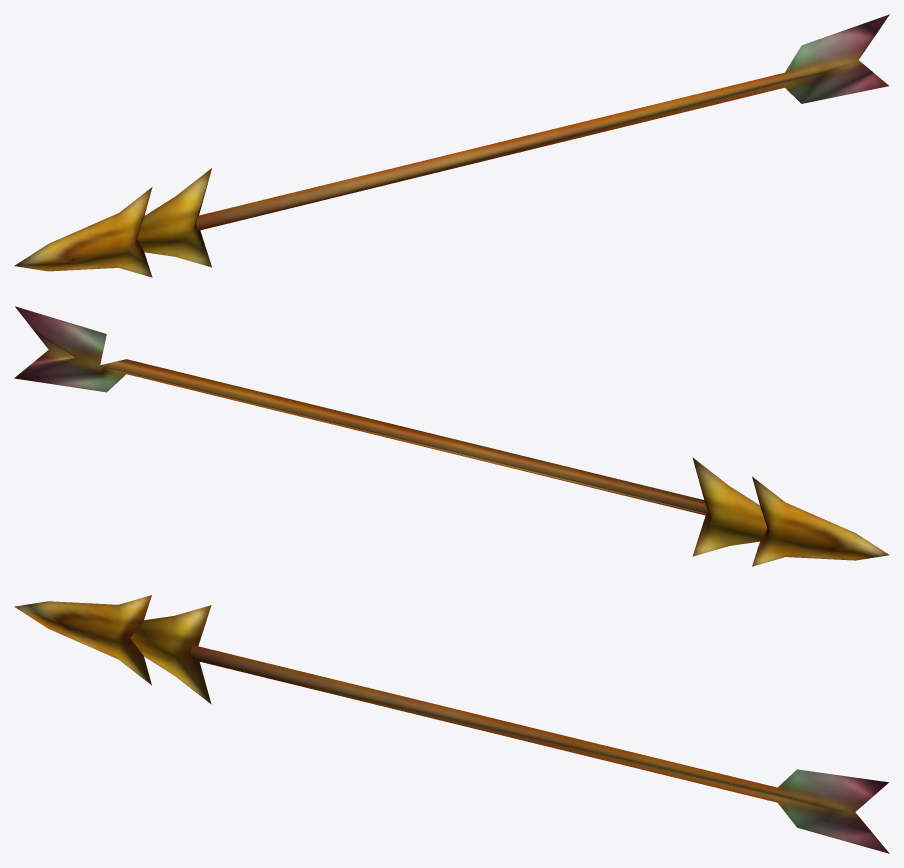
The model's file is goldenArrow.glb.
3 views of the same model, one above another, from view 1: azimuth 30°, elevation 25°; view 2: azimuth 150°, elevation 25°; view 3: azimuth 330°, elevation 25° (orthographic).
Visible parts, largest first — view 1: goldenArrow; view 2: goldenArrow; view 3: goldenArrow.
Boxes of the visible parts, x1,y1,x2,y2 form: goldenArrow: (14,14,889,277); goldenArrow: (14,306,889,566); goldenArrow: (14,595,889,853).
Size of the model in its own units: 1.16 by 0.1265 by 0.0347.
Materials: 1 (1 with a texture image).
